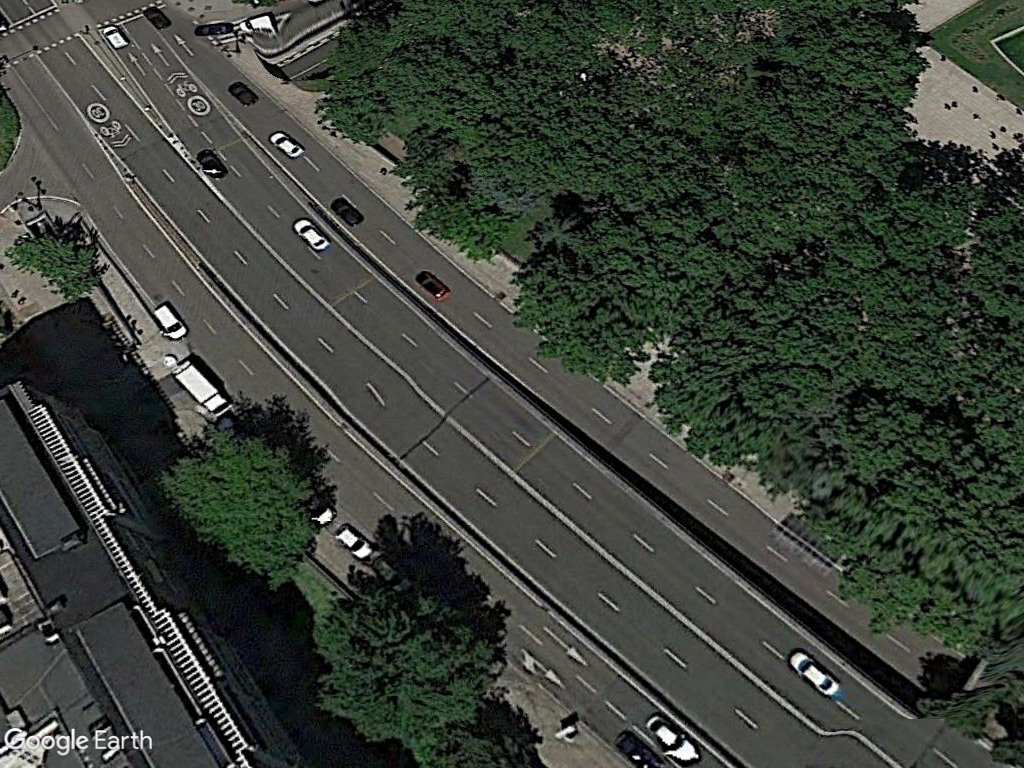car: (332, 521, 374, 561), (288, 216, 332, 253), (265, 132, 305, 160), (99, 23, 130, 52)
truck: (164, 362, 230, 416)
van: (149, 303, 188, 341)
